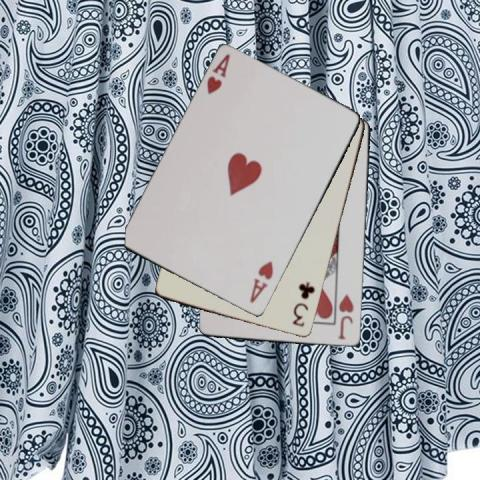3c: (290, 279, 317, 329)
Ah: (247, 258, 275, 305), (203, 51, 232, 96)
Jh: (336, 292, 356, 341)
